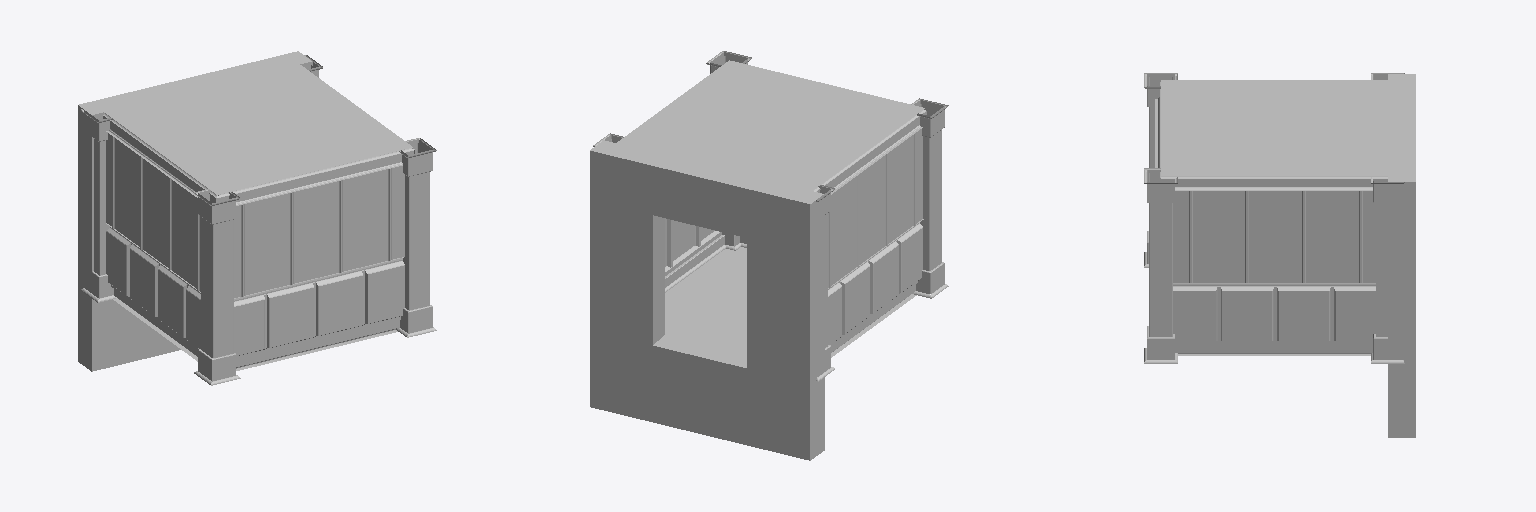
File: Elevator.obj
The picture shows the model from 3 angles: view 1: azimuth 30°, elevation 25°; view 2: azimuth 150°, elevation 25°; view 3: azimuth 270°, elevation 25°; orthographic projection.
Visible parts, largest first — view 1: Cube.026_Cube.028; view 2: Cube.026_Cube.028; view 3: Cube.026_Cube.028.
Part boxes in pixels (x1,y1,x2,y2): Cube.026_Cube.028: (78,51,436,385); Cube.026_Cube.028: (590,51,948,460); Cube.026_Cube.028: (1144,73,1415,437).
Bounding box in the file's own units: 18.4 × 20 × 19.2.